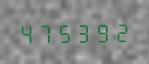five: (56, 20, 74, 44)
four: (17, 20, 35, 44)
nine: (94, 19, 112, 43)
seven: (36, 20, 54, 44)
three: (75, 19, 93, 43)
two: (113, 19, 131, 43)
